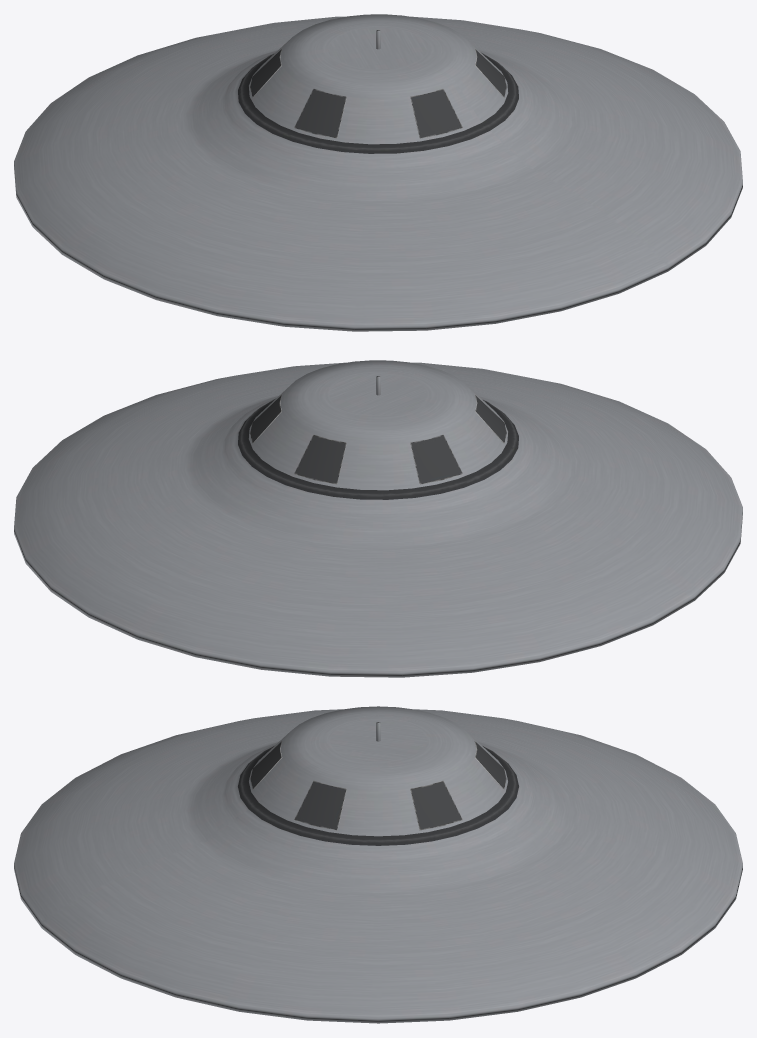
The picture shows the model from 3 angles, top to bottom: view 1: azimuth 30°, elevation 25°; view 2: azimuth 150°, elevation 25°; view 3: azimuth 270°, elevation 25°; orthographic projection.
Parts seen in each view (by area): view 1: Ufo_low; view 2: Ufo_low; view 3: Ufo_low.
Part boxes in pixels (x1,y1,x2,y2): Ufo_low: (14, 14, 742, 331); Ufo_low: (14, 360, 742, 677); Ufo_low: (14, 706, 742, 1023).
Size of the model in its own units: 2 by 0.6619 by 2.
Materials: 1 (1 with a texture image).
